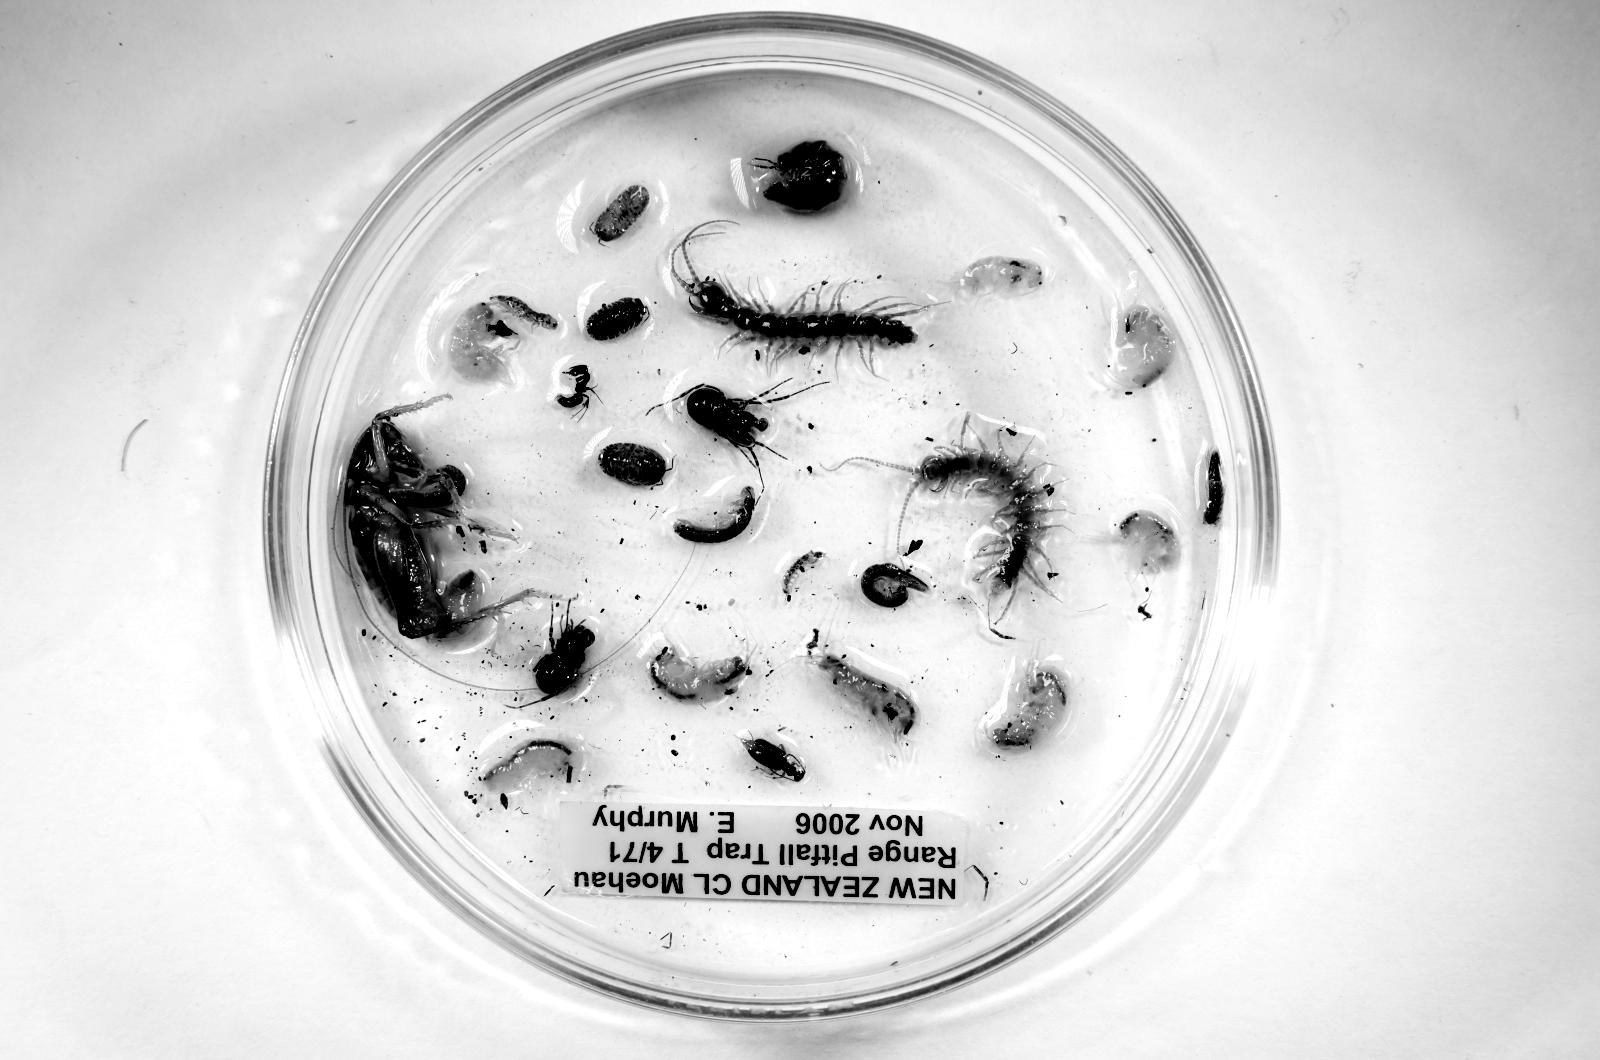amphipoda: (809, 653, 918, 746), (981, 645, 1067, 750), (447, 303, 520, 384), (648, 645, 749, 702), (479, 738, 579, 794), (1118, 304, 1175, 389), (1118, 510, 1181, 576), (959, 256, 1043, 297)
chilopoda: (901, 425, 1067, 631), (669, 220, 942, 345)
coleoptera: (741, 738, 805, 781)
diplopoda: (674, 486, 756, 543), (861, 563, 930, 608)
formicidae: (556, 365, 596, 409)
isopoda: (750, 140, 847, 213), (593, 185, 651, 242), (598, 442, 667, 486), (586, 297, 649, 340), (488, 295, 558, 329), (783, 551, 824, 601)
opiliones: (683, 385, 768, 470), (534, 622, 595, 698)
orthoptera: (346, 397, 519, 638)
